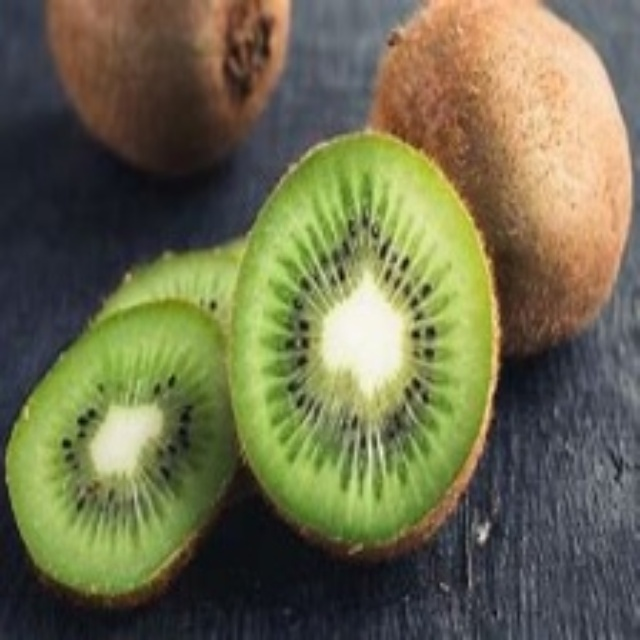kiwi: (239, 138, 494, 564), (373, 4, 634, 352), (6, 243, 249, 614), (48, 2, 289, 170)
